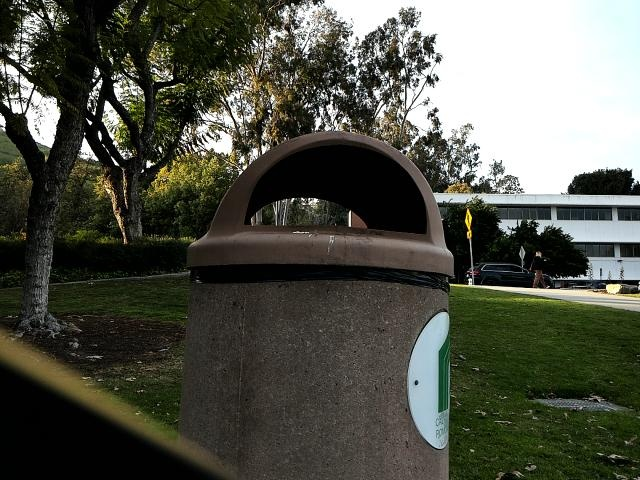trashcan: (181, 128, 468, 480)
